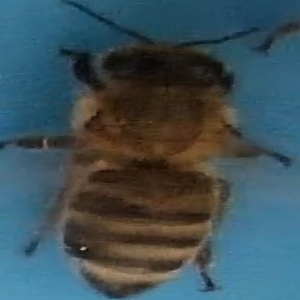bee: (15, 28, 268, 300)
